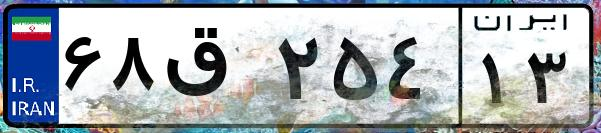1: (475, 38, 525, 113)
2: (270, 28, 330, 110)
3: (525, 38, 570, 115)
4: (385, 28, 445, 110)
5: (330, 28, 385, 110)
6: (57, 26, 110, 100)
8: (110, 28, 158, 98)
ق: (158, 20, 270, 120)
